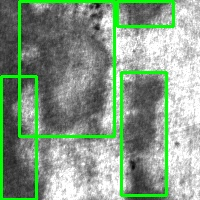patches: (19, 1, 114, 136), (121, 72, 166, 195), (1, 76, 36, 199), (117, 1, 173, 26)
